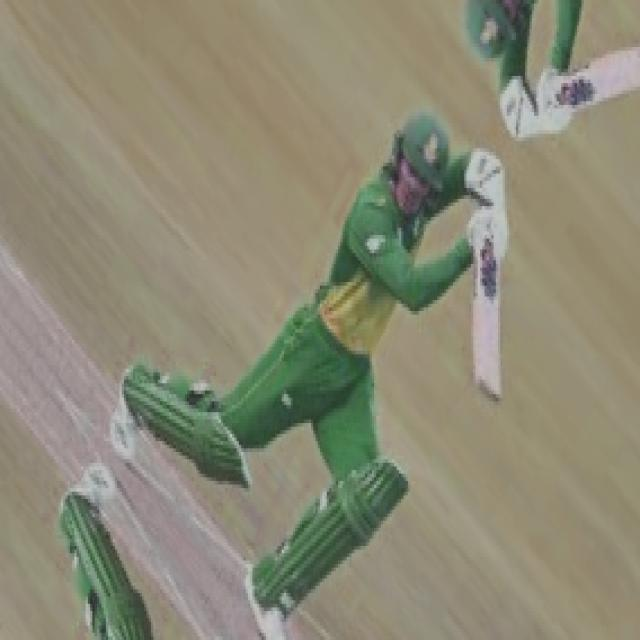toe: (470, 362, 511, 406)
